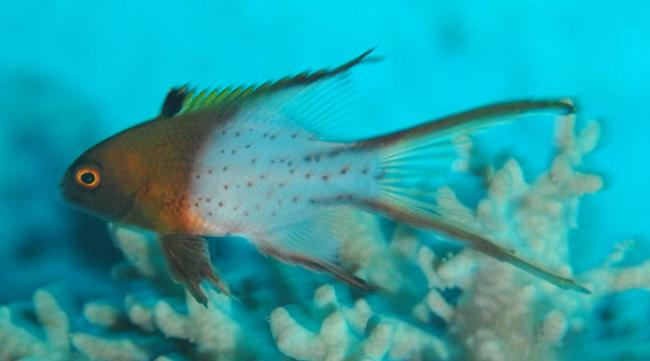fish: (57, 49, 590, 309)
